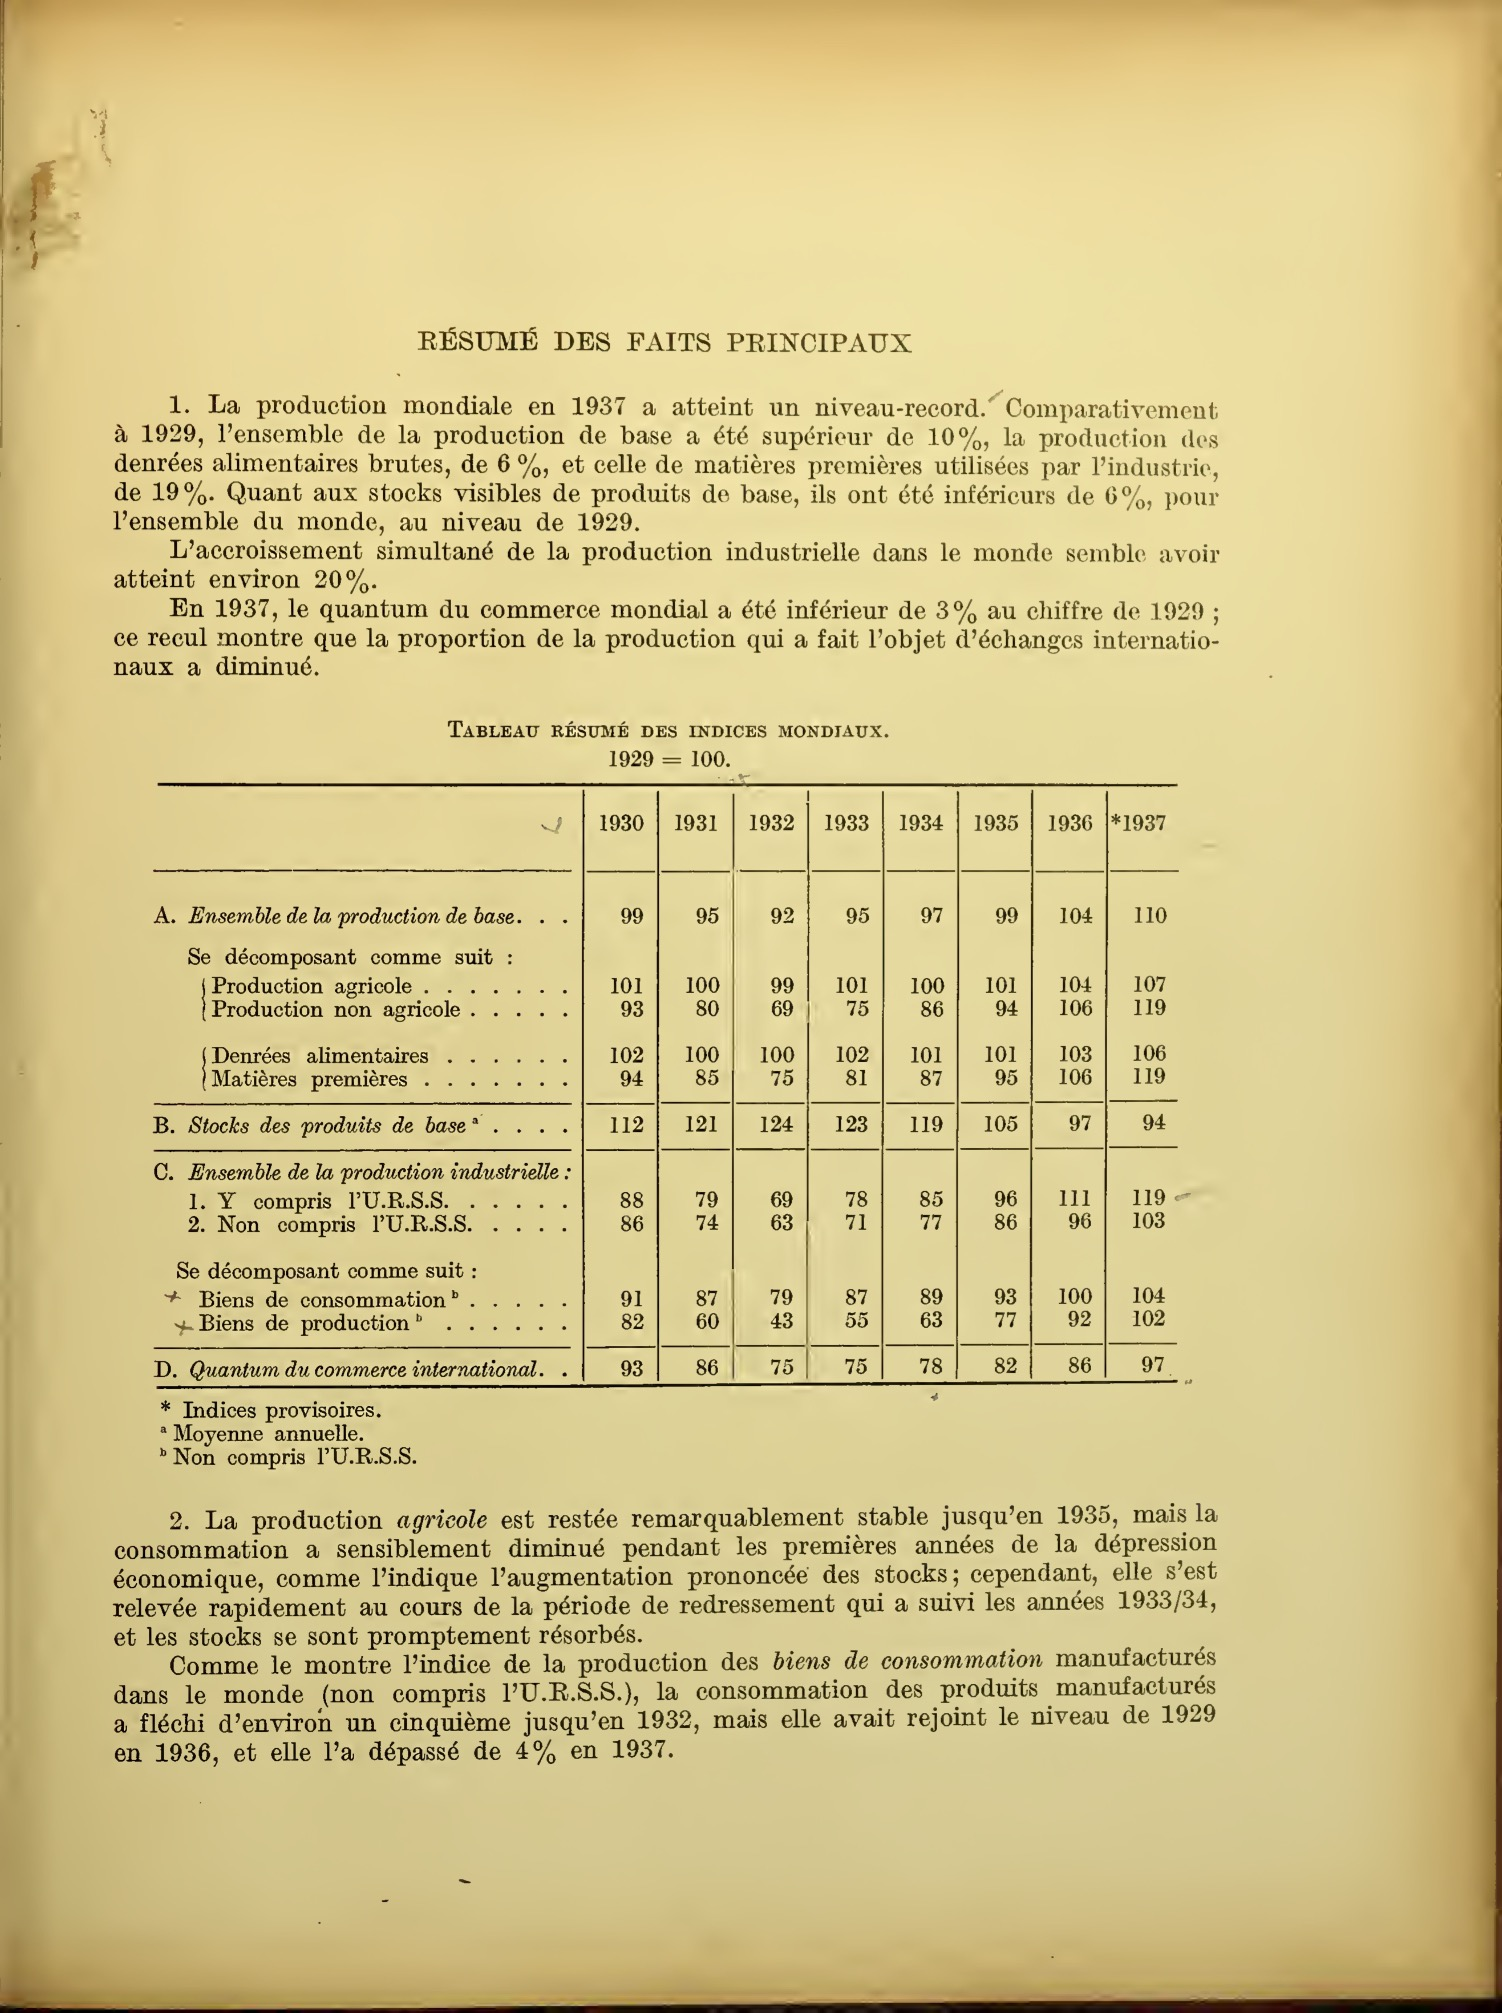MainZone-Head: (409, 317, 921, 367)
MainZone-ListItem: (96, 374, 1229, 534), (99, 1494, 1226, 1650)
MainZone-P: (101, 1650, 1229, 1780), (100, 597, 1220, 690), (103, 534, 1227, 596)
MarginTextZone-Notes: (146, 1445, 424, 1473), (148, 1396, 391, 1421), (144, 1421, 372, 1446)
TableZone: (140, 704, 1205, 1483)
TableZone-Head: (433, 714, 897, 772)
